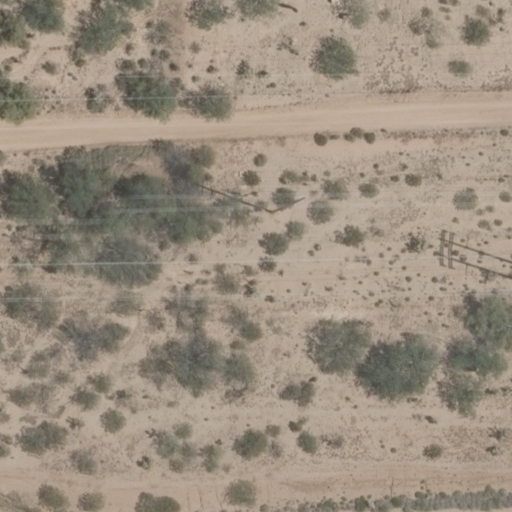DT: (268, 196, 305, 216)
